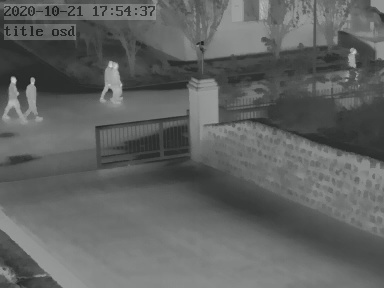person: (23, 76, 40, 120), (4, 75, 21, 118), (101, 61, 119, 101), (344, 43, 360, 72)
